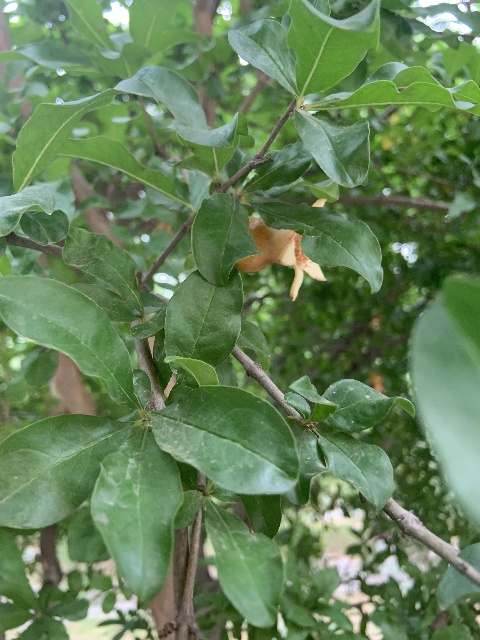early-fruit: (234, 197, 329, 301)
